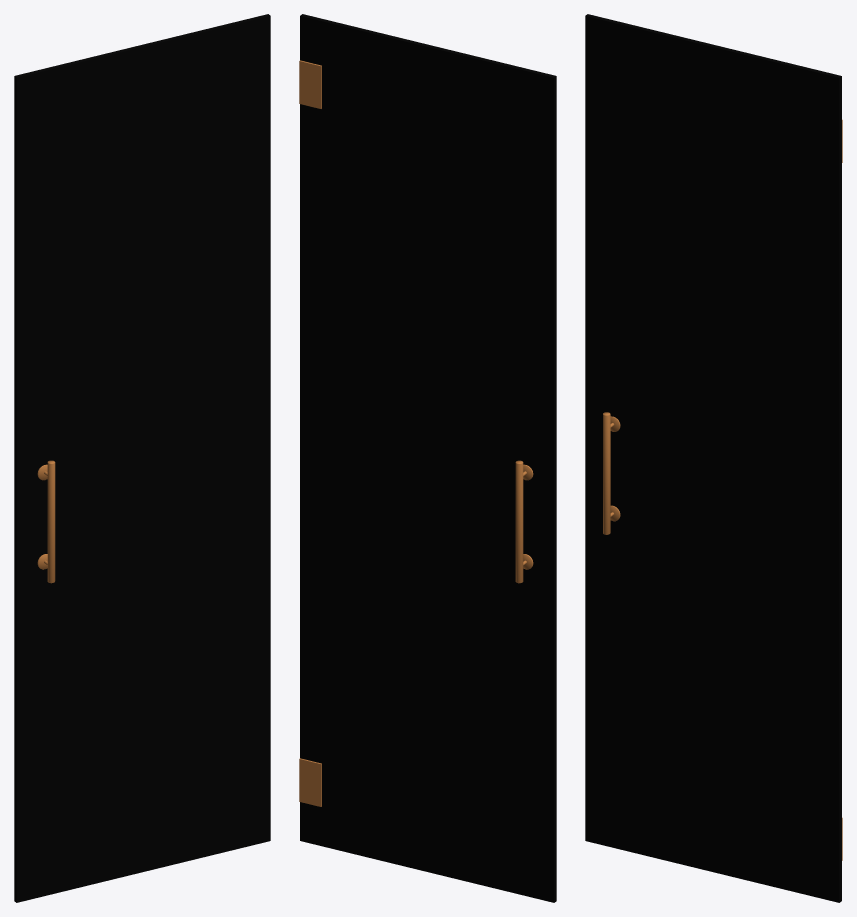
The model's file is BTH_ELIX_Shower_Door.FBX.
3 renders of one model, left to right at view 1: azimuth 30°, elevation 25°; view 2: azimuth 150°, elevation 25°; view 3: azimuth 330°, elevation 25°, orthographic.
Visible parts, largest first — view 1: BTH_Shower_Door; view 2: BTH_Shower_Door; view 3: BTH_Shower_Door.
Boxes of the visible parts, x1,y1,x2,y2 form: BTH_Shower_Door: [14, 14, 270, 902]; BTH_Shower_Door: [299, 14, 556, 902]; BTH_Shower_Door: [585, 14, 842, 902].
Size of the model in its own units: 59.62 by 185 by 8.02.
